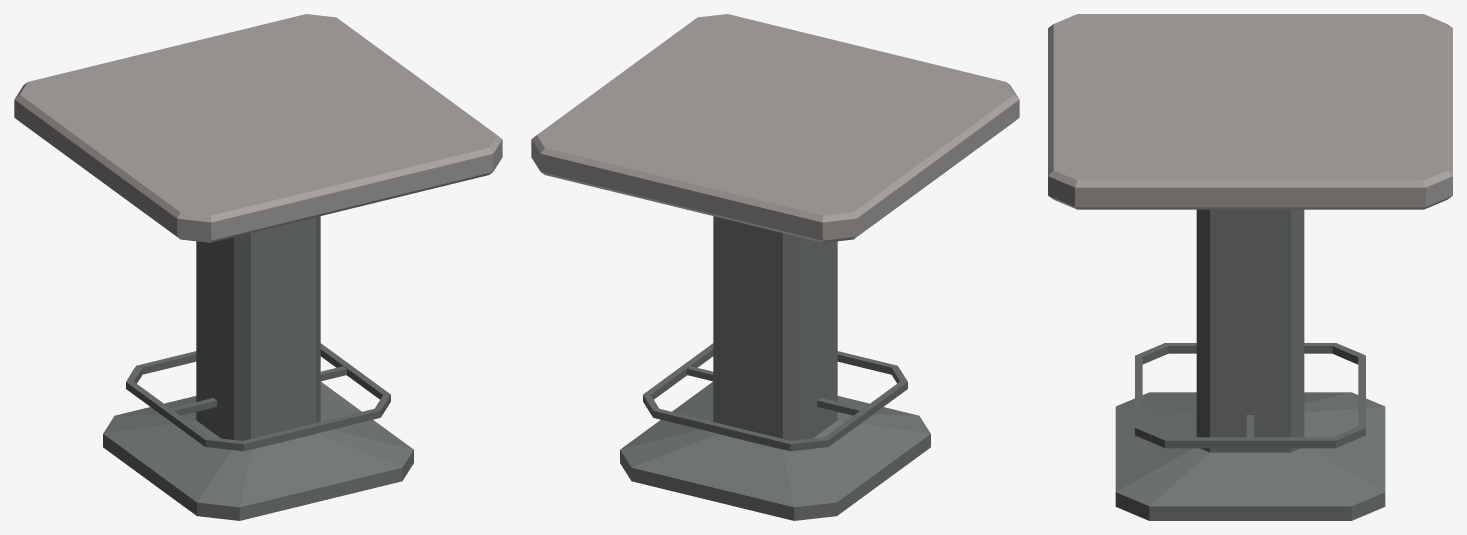
The model's file is SM_Props_Interior_Shop_Restaurant_Table_02.fbx.
3 views of the same model, side by side, from view 1: azimuth 30°, elevation 25°; view 2: azimuth 150°, elevation 25°; view 3: azimuth 270°, elevation 25° (orthographic). The views are drawn at different scales.
Parts seen in each view (by area): view 1: SM_Props_Interior_Shop_Restaurant_Table_02; view 2: SM_Props_Interior_Shop_Restaurant_Table_02; view 3: SM_Props_Interior_Shop_Restaurant_Table_02.
Boxes of the visible parts, x1,y1,x2,y2 form: SM_Props_Interior_Shop_Restaurant_Table_02: [14, 14, 502, 520]; SM_Props_Interior_Shop_Restaurant_Table_02: [531, 14, 1019, 520]; SM_Props_Interior_Shop_Restaurant_Table_02: [1048, 14, 1452, 520].
Size of the model in its own units: 75 by 75 by 75.
